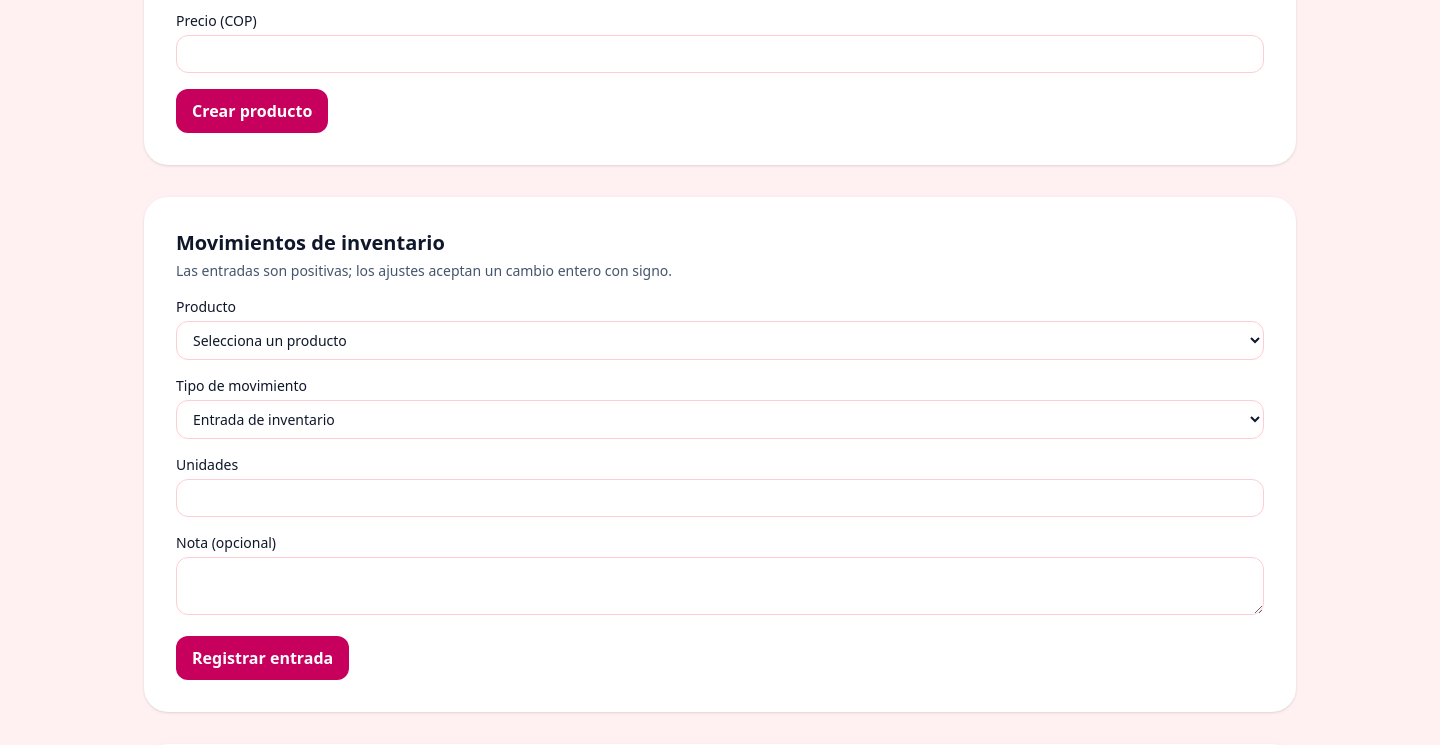
Test case: administrator stock movement form › preserves a retryable draft when the mutation fails
(page scrolled)
Select "KW-001 · Sticker kawaii" in the dropdown labelled "Producto" at (720, 340), box 176,321 -> 1264,360
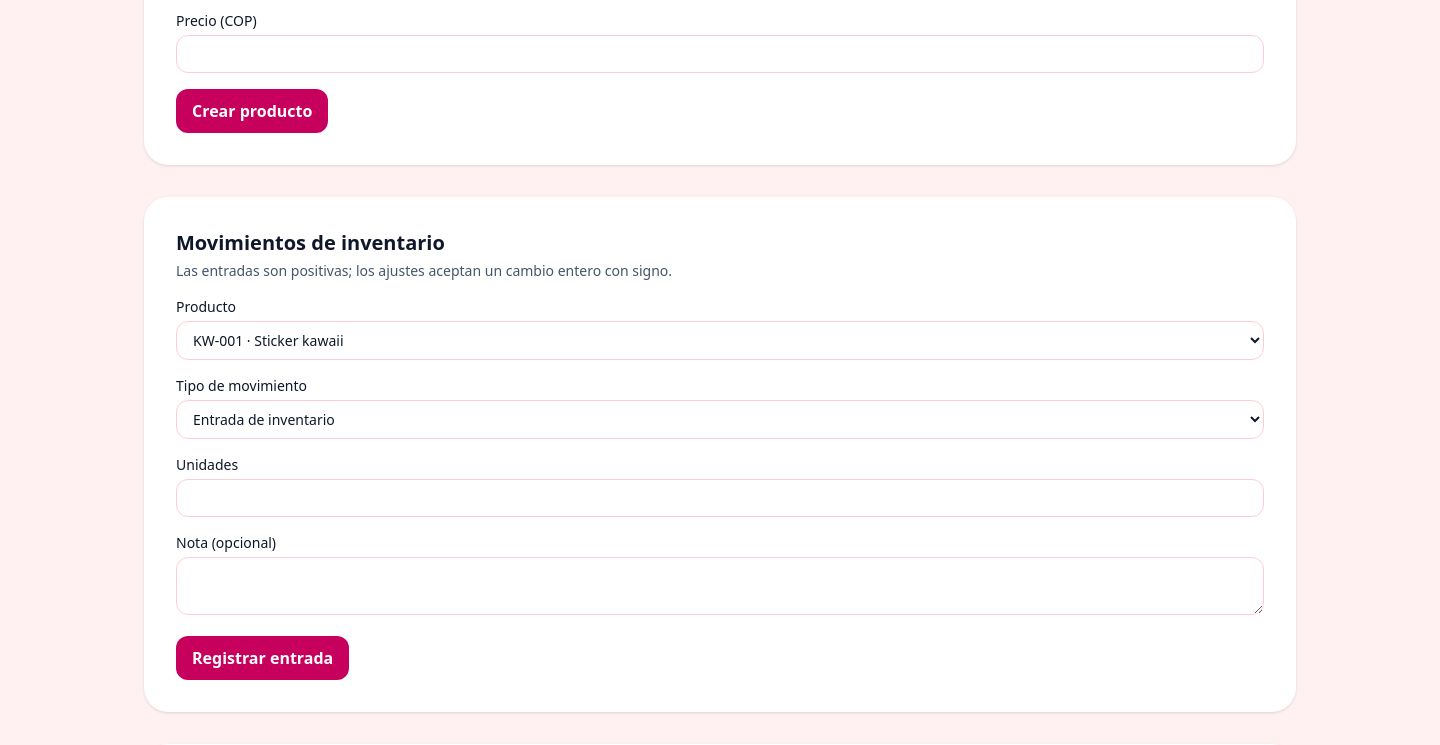
Type "3" into the number field labelled "Unidades".
click(720, 498); type("3")  # box 176,479 -> 1264,517
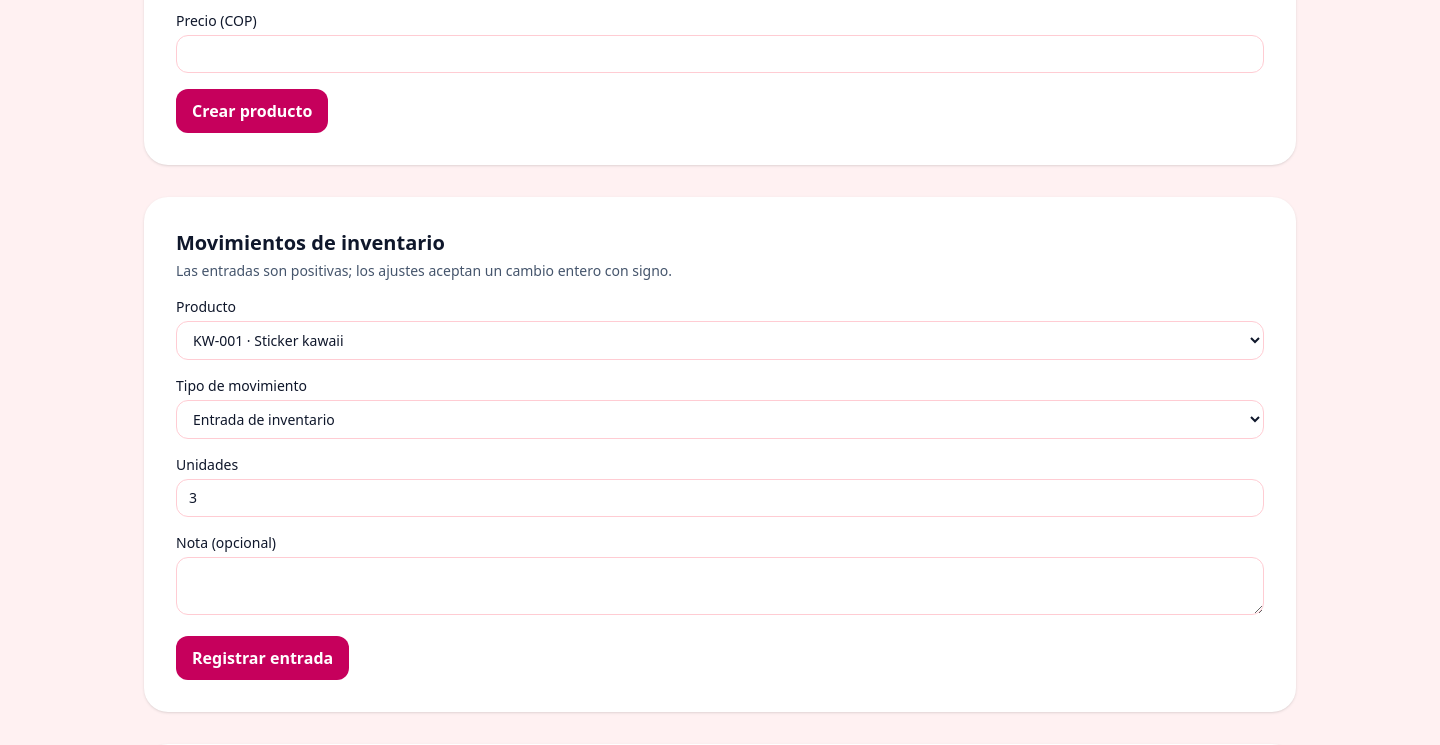
Type "Conteo de bodega" into the text box labelled "Nota (opcional)".
click(720, 586); type("Conteo de bodega")  # box 176,557 -> 1264,615
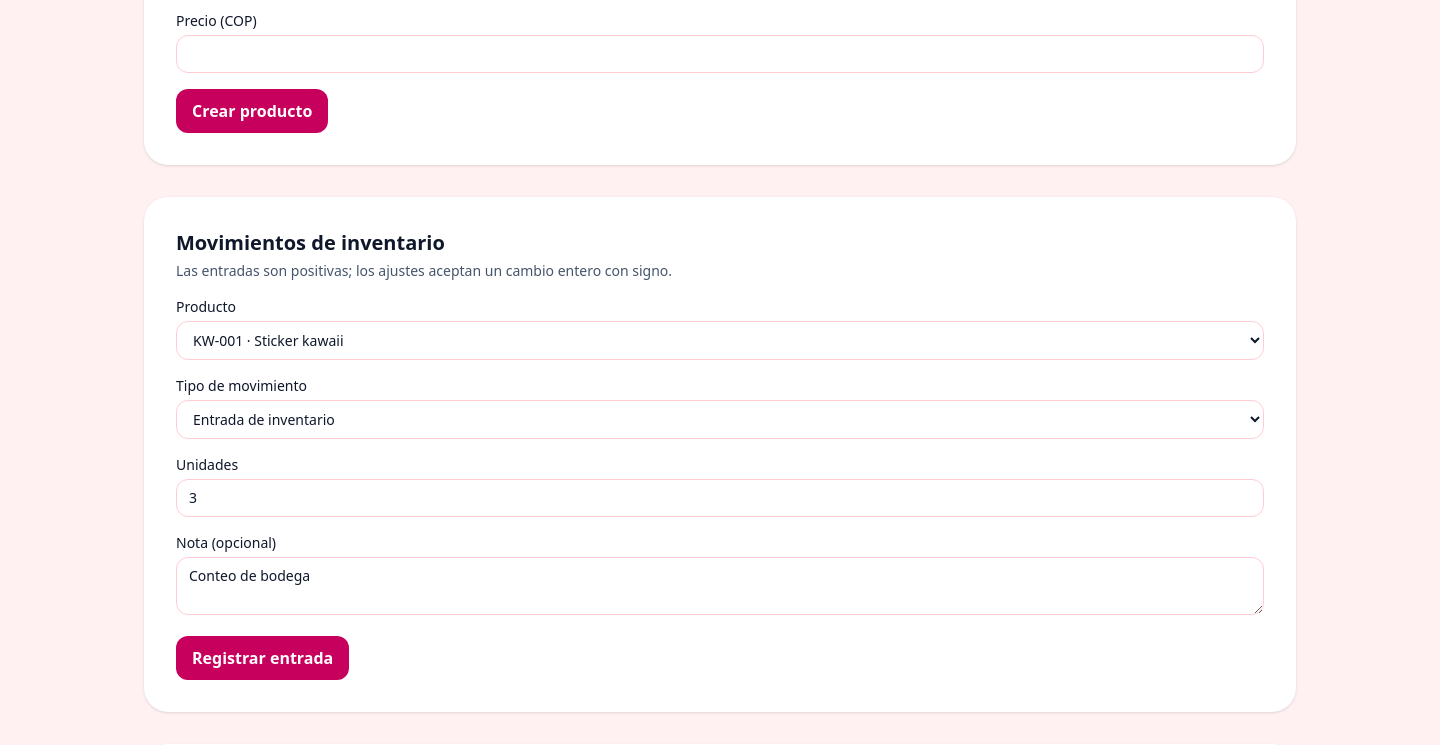
Submit the form named "Registrar movimiento de inventario", box 144,197 -> 1296,712
(page scrolled)
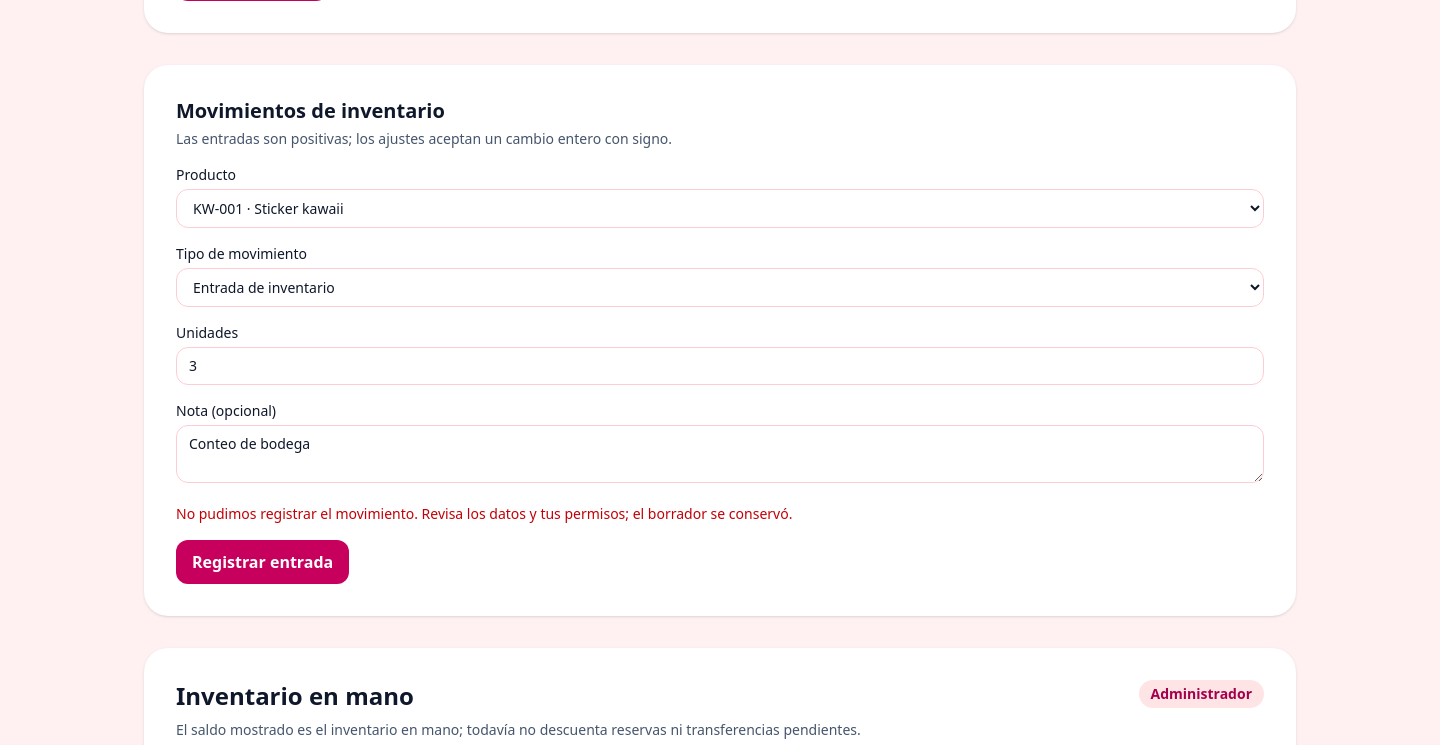
Expected: the button "Registrar entrada" is enabled, 176,540 -> 349,584
Now the message shows "No pudimos registrar el movimiento", box 176,504 -> 792,523
Submit the form named "Registrar movimiento de inventario", box 144,65 -> 1296,616
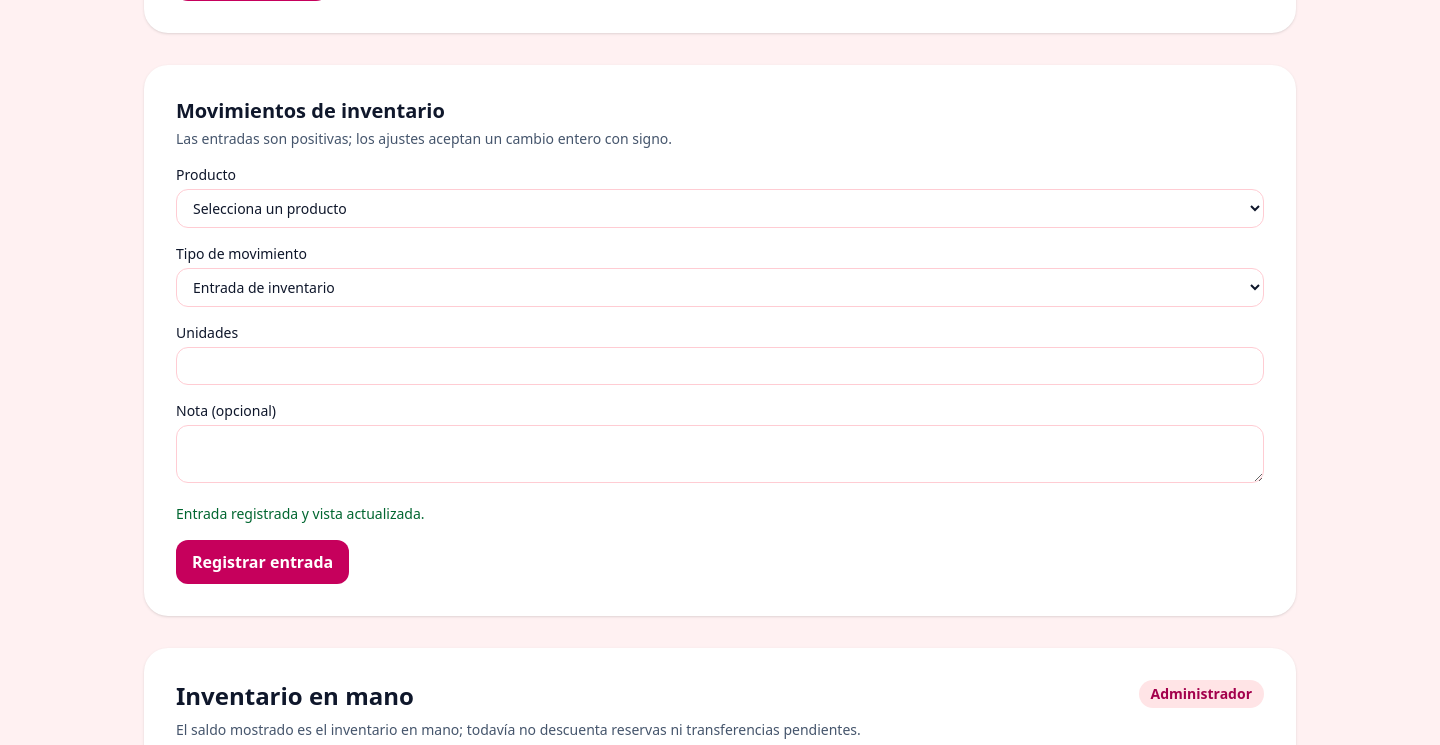
Now the text "Entrada registrada y vista actualizada." is shown, box 176,504 -> 425,523
